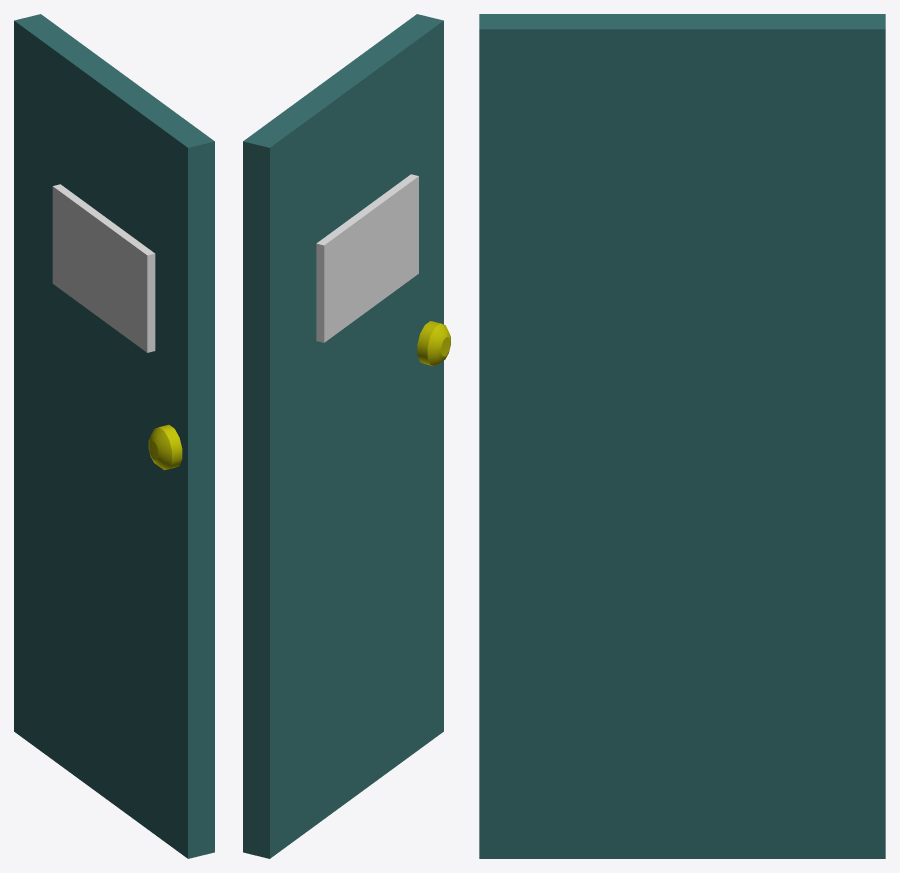
The model's file is Pared.fbx.
The picture shows the model from 3 angles, left to right: view 1: azimuth 30°, elevation 25°; view 2: azimuth 150°, elevation 25°; view 3: azimuth 270°, elevation 25°; orthographic projection. The views are drawn at different scales.
Parts seen in each view (by area): view 1: Mesh; view 2: Mesh; view 3: Mesh.
Part boxes in pixels (x1=…): Mesh: x1=14, y1=14, x2=214, y2=858; Mesh: x1=243, y1=14, x2=450, y2=858; Mesh: x1=479, y1=14, x2=885, y2=858.
Bounding box in the file's own units: 28.5 × 431 × 191.
